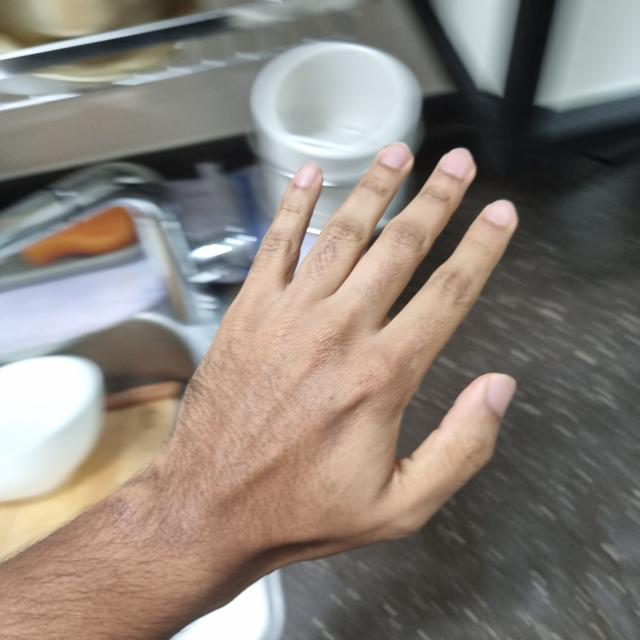Paper: (161, 144, 514, 560)
